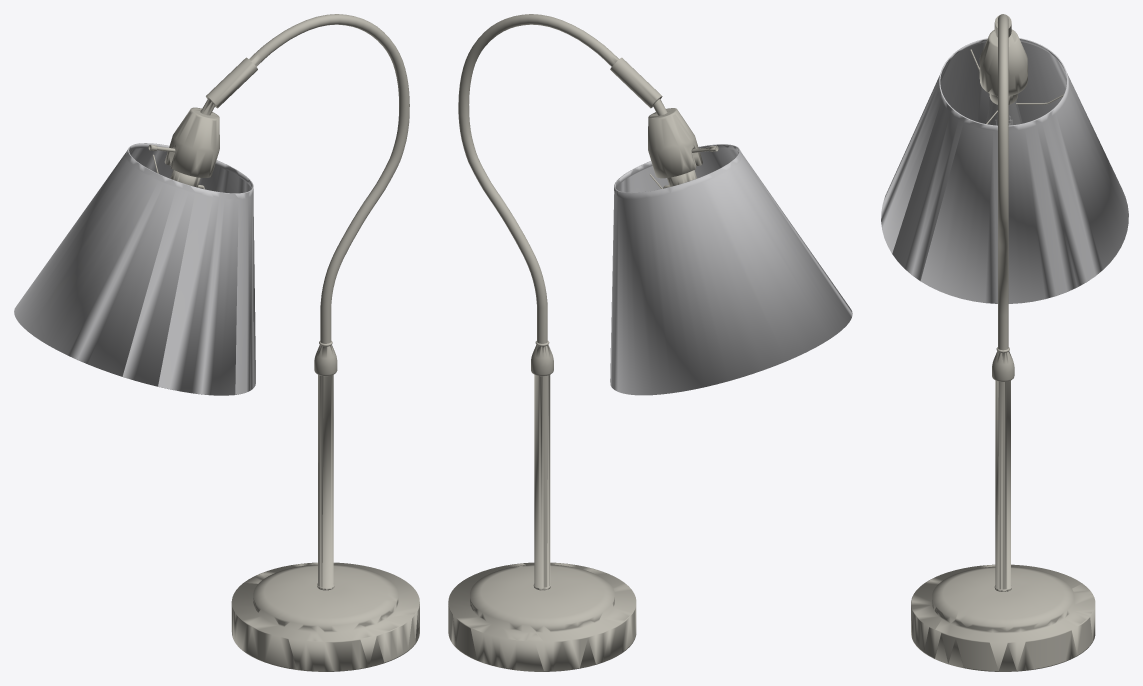
File: B07MBFDJMP.glb
3 renders of one model, left to right at view 1: azimuth 30°, elevation 25°; view 2: azimuth 150°, elevation 25°; view 3: azimuth 270°, elevation 25°, orthographic.
Parts seen in each view (by area): view 1: RootNode; view 2: RootNode; view 3: RootNode.
Boxes of the visible parts, bbox=[...] form: RootNode: bbox=[14, 14, 419, 671]; RootNode: bbox=[448, 14, 852, 671]; RootNode: bbox=[881, 14, 1128, 671].
Size of the model in its own units: 0.3649 by 0.5713 by 0.212.
1 material, 1 textured.
